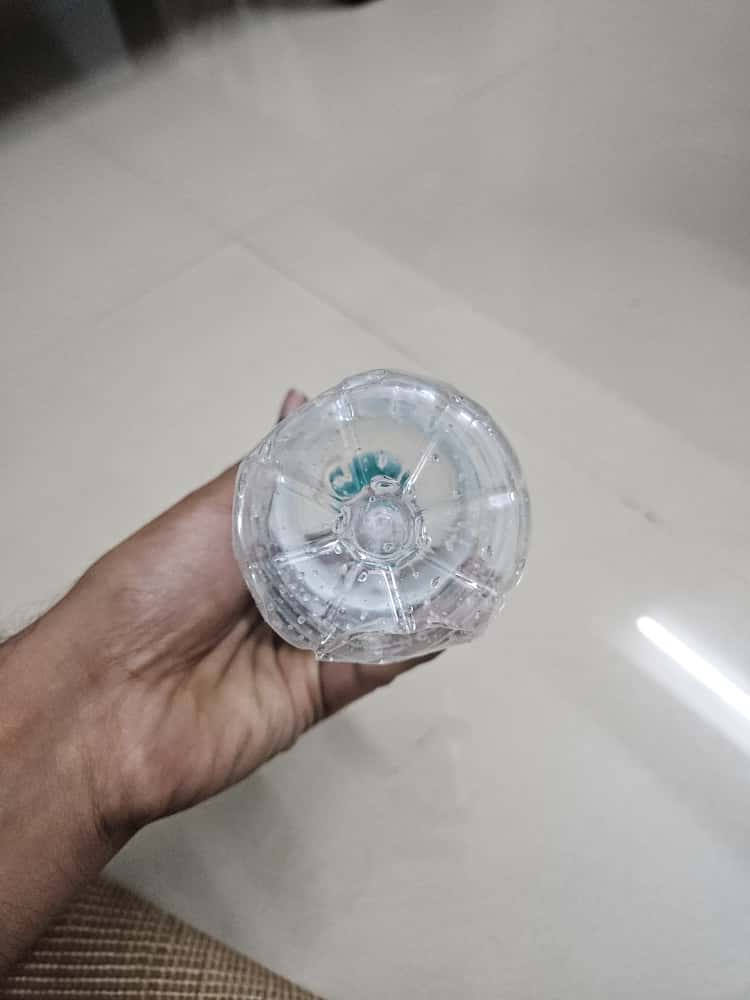dry: (178, 360, 561, 685)
